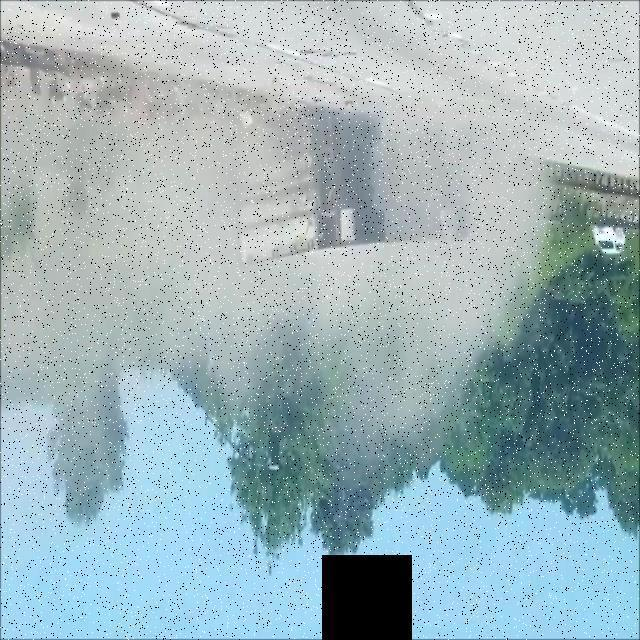person: (235, 84, 500, 256)
